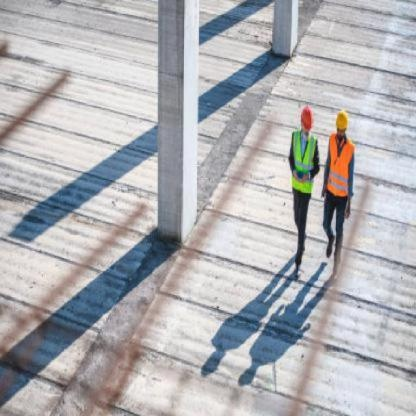red: (298, 103, 316, 135)
vest: (324, 133, 362, 199), (290, 129, 320, 195)
yellow: (332, 108, 351, 134)
